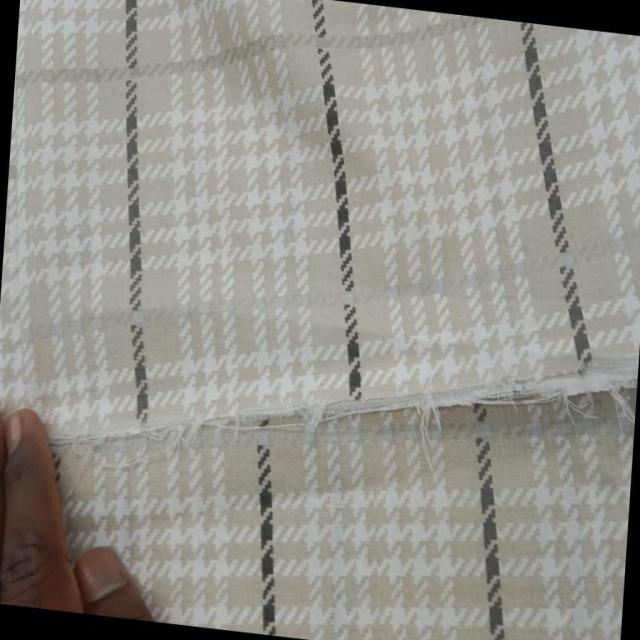cut: (75, 292, 636, 524)
